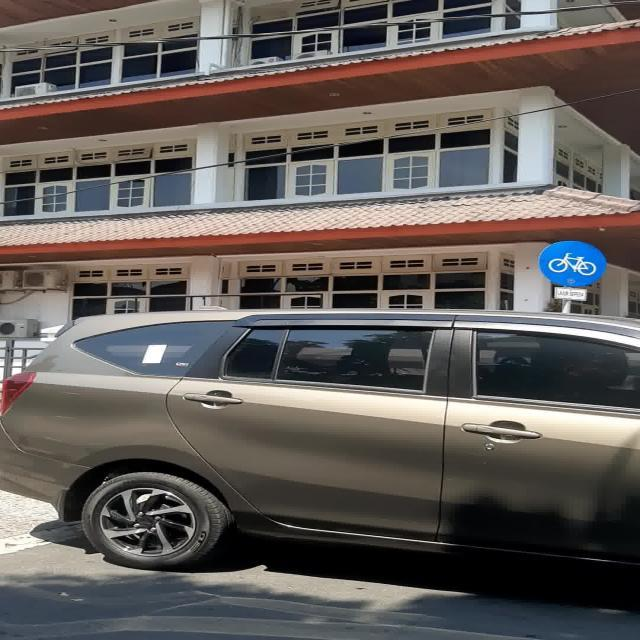Jalur Sepeda: (538, 240, 607, 286)
